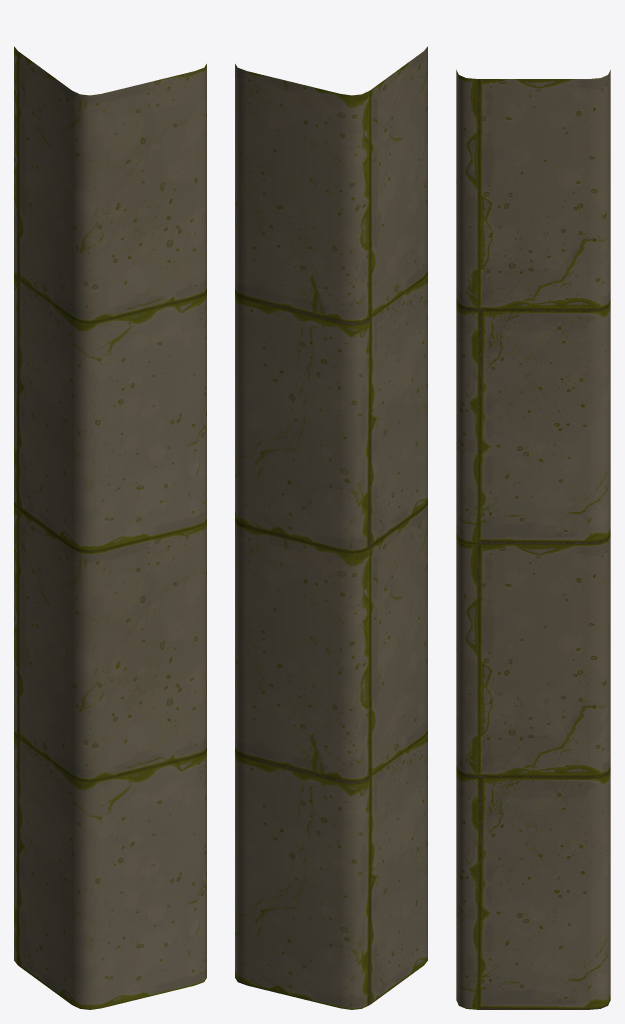
The model's file is SM_building_column_05.glb.
3 renders of one model, left to right at view 1: azimuth 30°, elevation 25°; view 2: azimuth 150°, elevation 25°; view 3: azimuth 270°, elevation 25°, orthographic.
Parts seen in each view (by area): view 1: SM_building_column_05; view 2: SM_building_column_05; view 3: SM_building_column_05.
Boxes of the visible parts, bbox=[...] form: SM_building_column_05: bbox=[14, 46, 206, 1009]; SM_building_column_05: bbox=[235, 46, 427, 1009]; SM_building_column_05: bbox=[456, 70, 610, 1009].
Size of the model in its own units: 0.6 by 4 by 0.6.
1 material, 1 textured.
